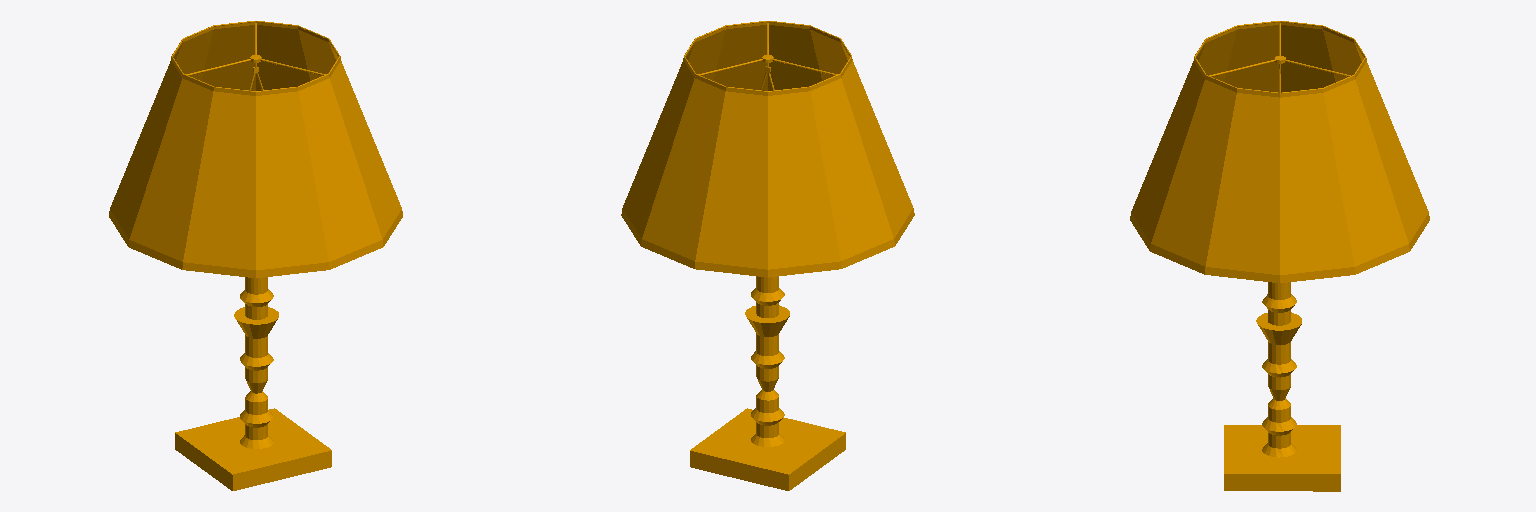
The robot description file, URDF, robot "none":
<robot name="none">
       <link name="none">
           <visual>
               <origin rpy="1.57 0 0" xyz="0 0 0" />
               <geometry>
                   <mesh filename="deskLamp1.obj" />
               </geometry>
           </visual>
          <collision>
              <geometry>
                  <box size="0.662986 1.000000 0.663002" />
              </geometry>
          </collision>

          <inertial>
            <mass value="0.0" />
            <inertia ixx="0.0" ixy="0.0" ixz="0.0" iyy="0.0" iyz="0.0" izz="0.0" />
          </inertial>
      </link>
  </robot>

--- Facts derived from the render (not from the file) ---
Views: 3 orthographic renders of the robot side by side, from view 1: azimuth 30°, elevation 25°; view 2: azimuth 150°, elevation 25°; view 3: azimuth 270°, elevation 25°.
Robot: none — 1 links, 0 joints (none); root link none; default pose: every joint at zero.
Visible links, largest first — view 1: none; view 2: none; view 3: none.
Boxes of the visible links, bbox=[...] form: none: bbox=[109, 21, 402, 490]; none: bbox=[621, 21, 914, 490]; none: bbox=[1130, 21, 1429, 491].
Size in the robot's own frame: 0.663 by 0.663 by 1 metres.
1 mesh visuals loaded from 1 distinct referenced files (1 OBJ).